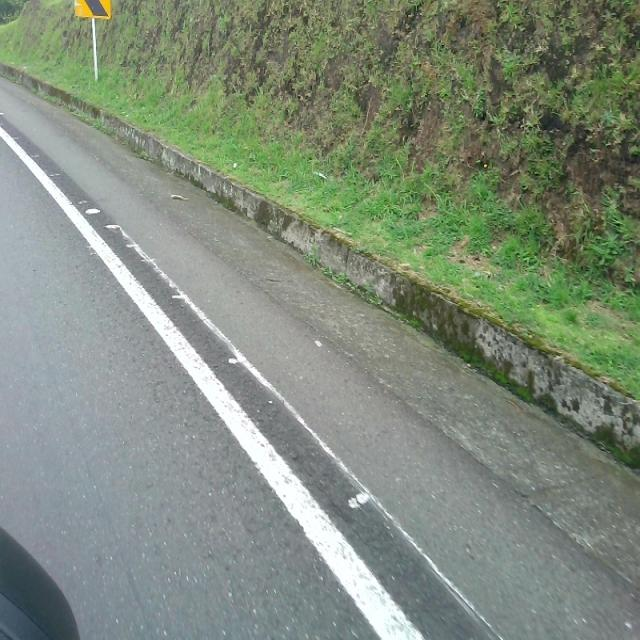DITCH: (1, 69, 638, 638)
